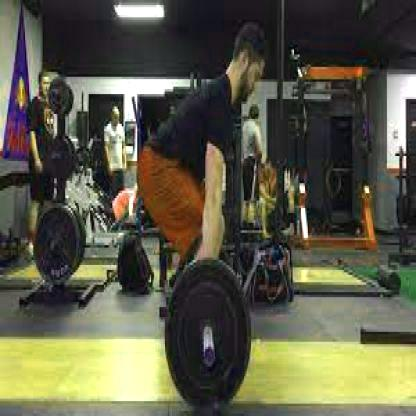Barbell: (203, 345, 217, 368)
